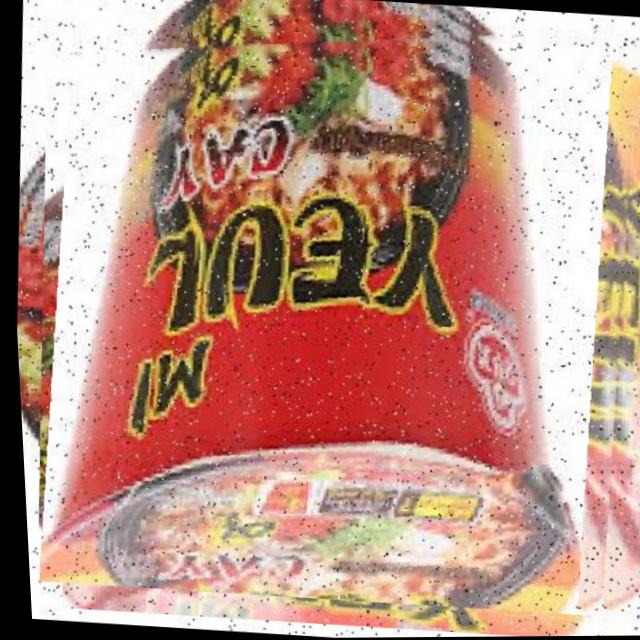Miscellaneous: (6, 0, 640, 622)
